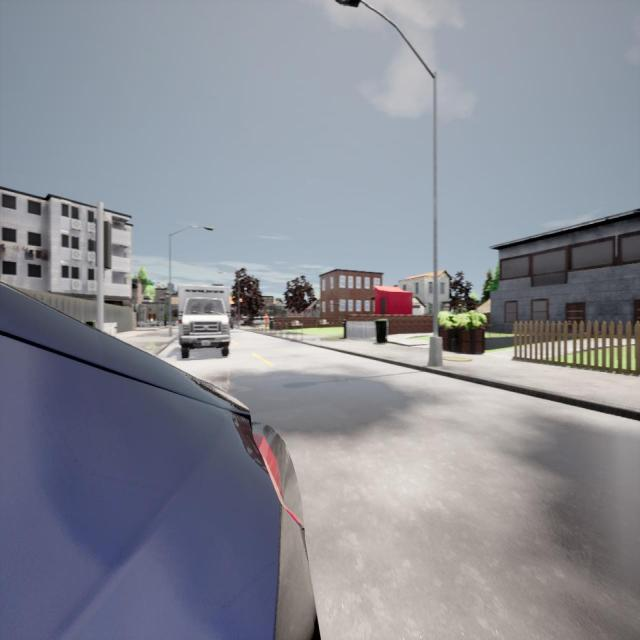Pedestrian: (264, 313, 269, 331)
Vehicle: (0, 284, 322, 640), (178, 283, 231, 358)
traffic_light: (104, 221, 112, 269)
